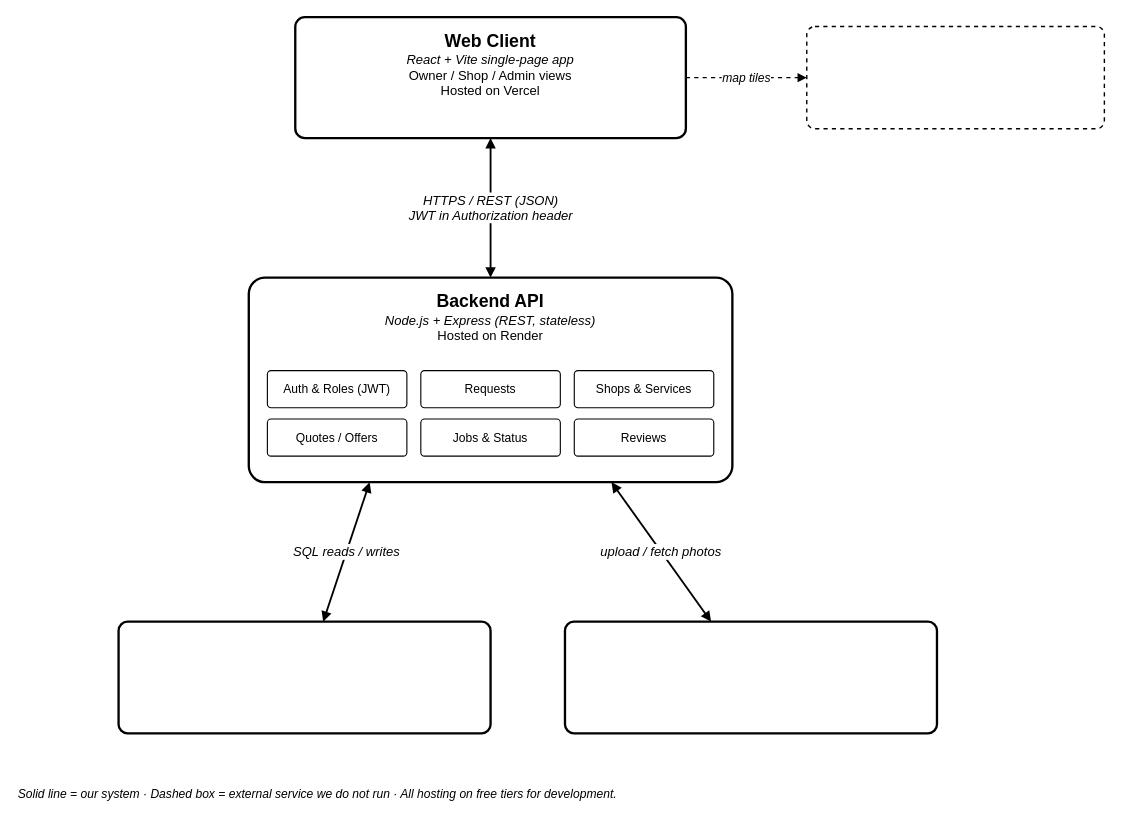
Some shapes in this 1121 by 824 pixel diagram are drawn without their labels. The shapes that lost their labels are listed below. From the top down, each one's centre as x and y in pixels, then its label:
point 955,77: OpenStreetMap External map service Map tiles via Leaflet
point 304,677: Database PostgreSQL (Supabase) Users, shops, requests, quotes, jobs
point 750,677: File Storage Supabase Storage Request and trade-in photos
